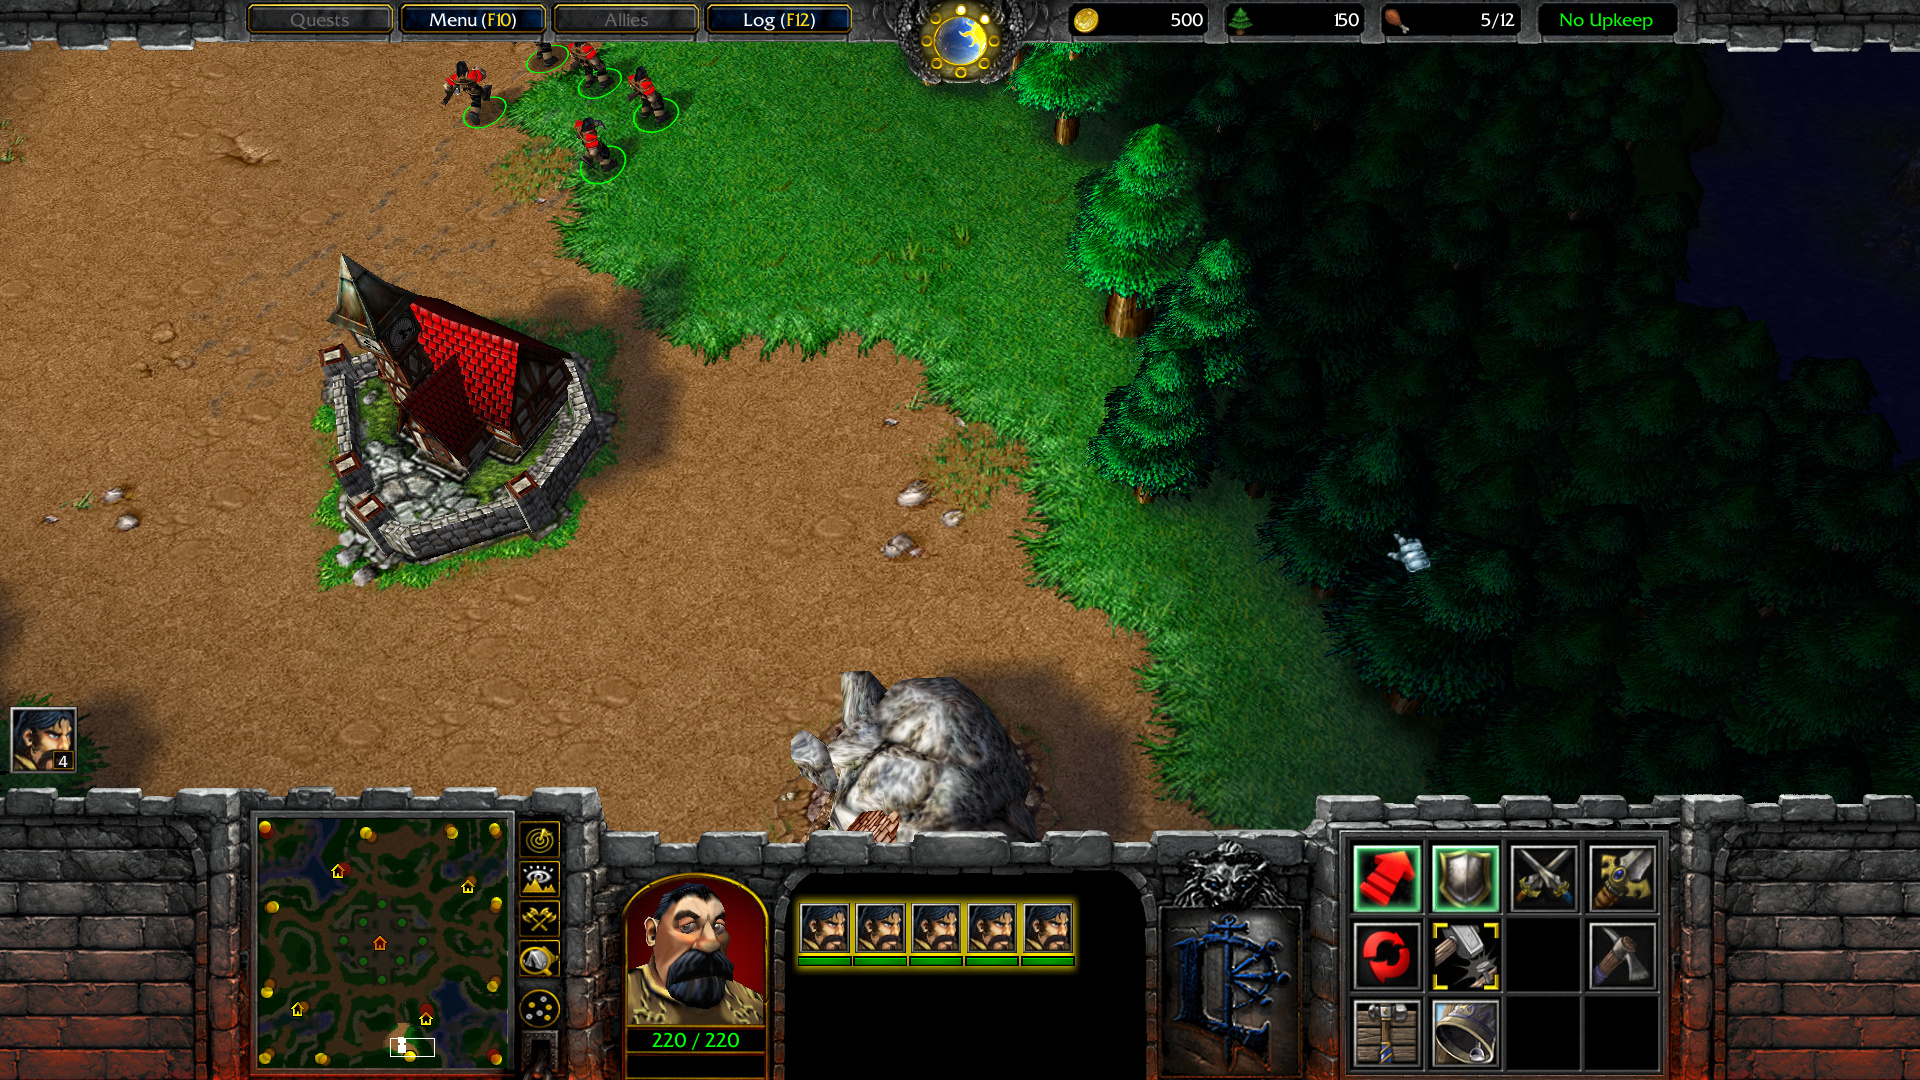Townhall: (311, 253, 623, 605)
